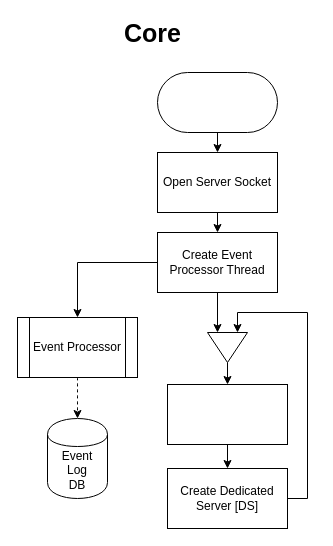
Some shapes in this 333 by 546 pixel diagram are drawn without their labels. Here are the shapes that lost their labels. From the top down, the centre of each, then its label:
[217,102]: Init core
[227,414]: Wait for conection
